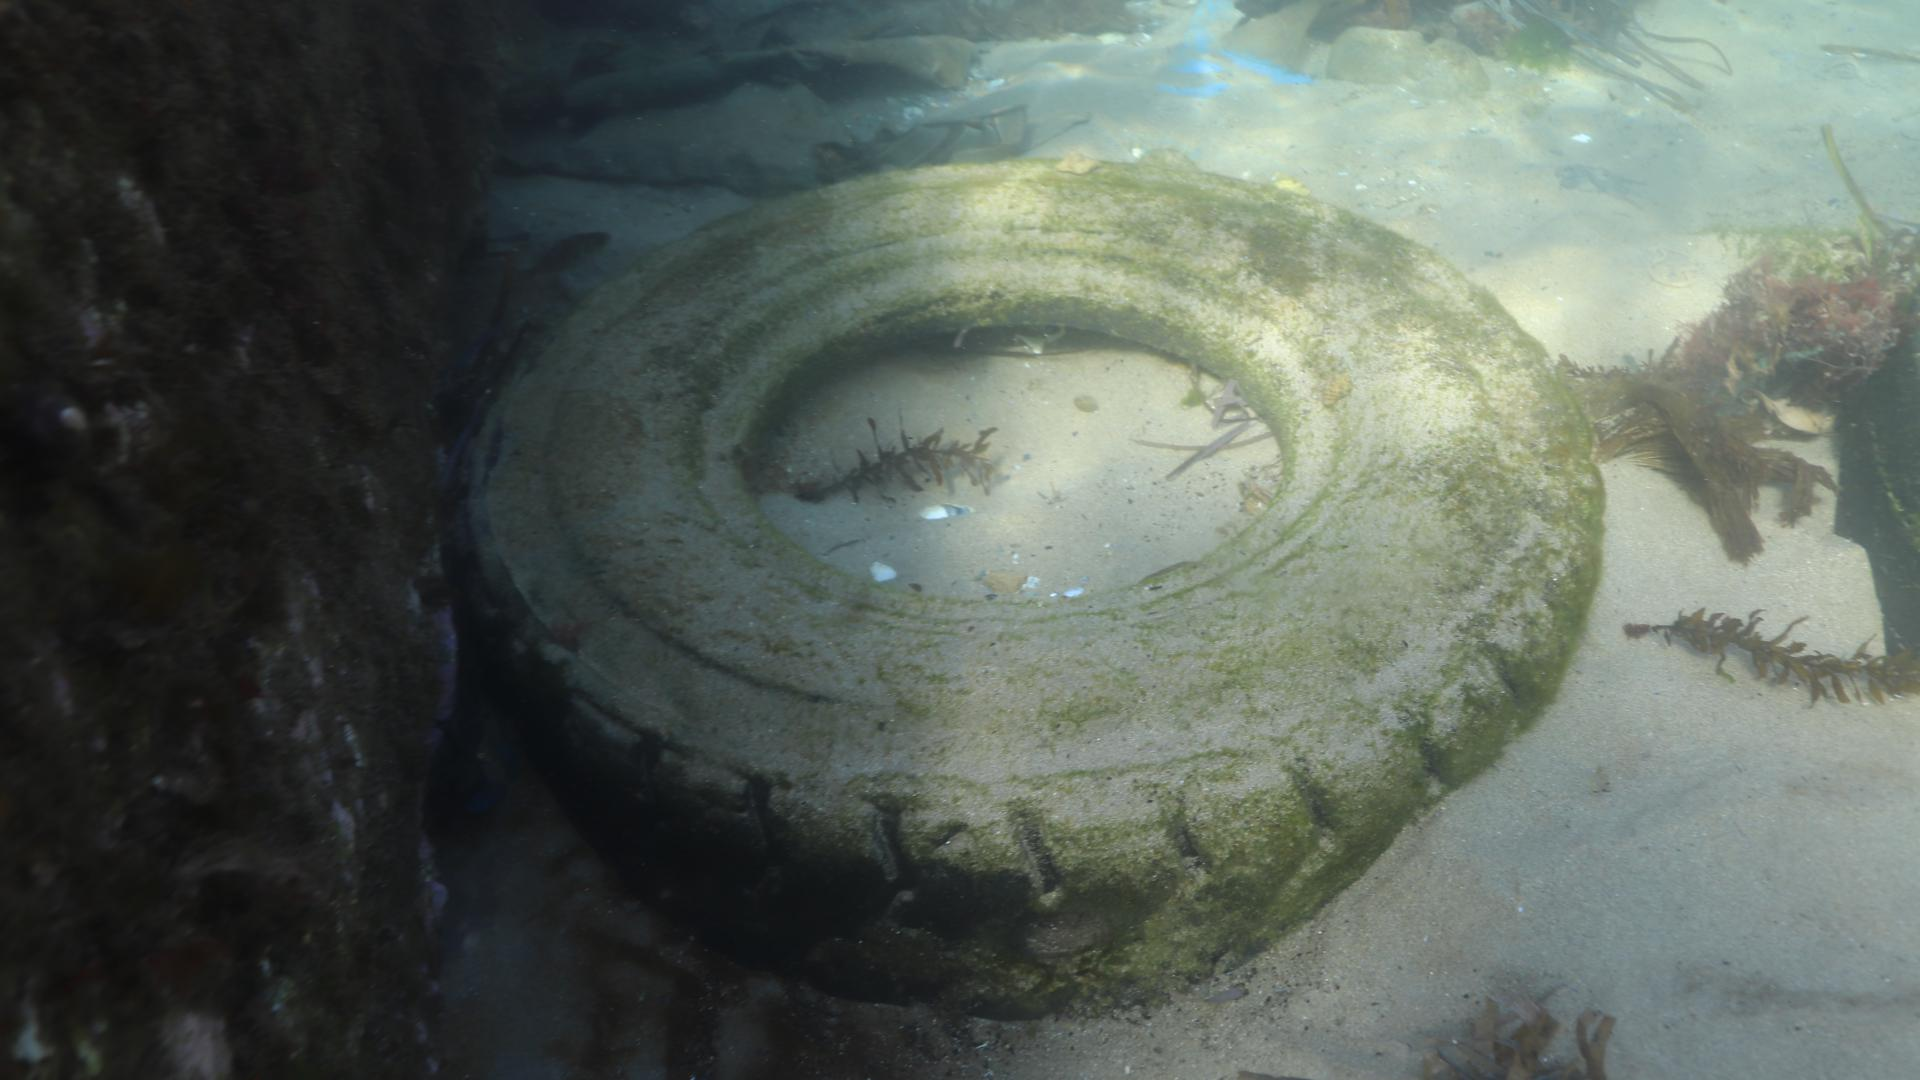tire: (464, 154, 1604, 1015)
